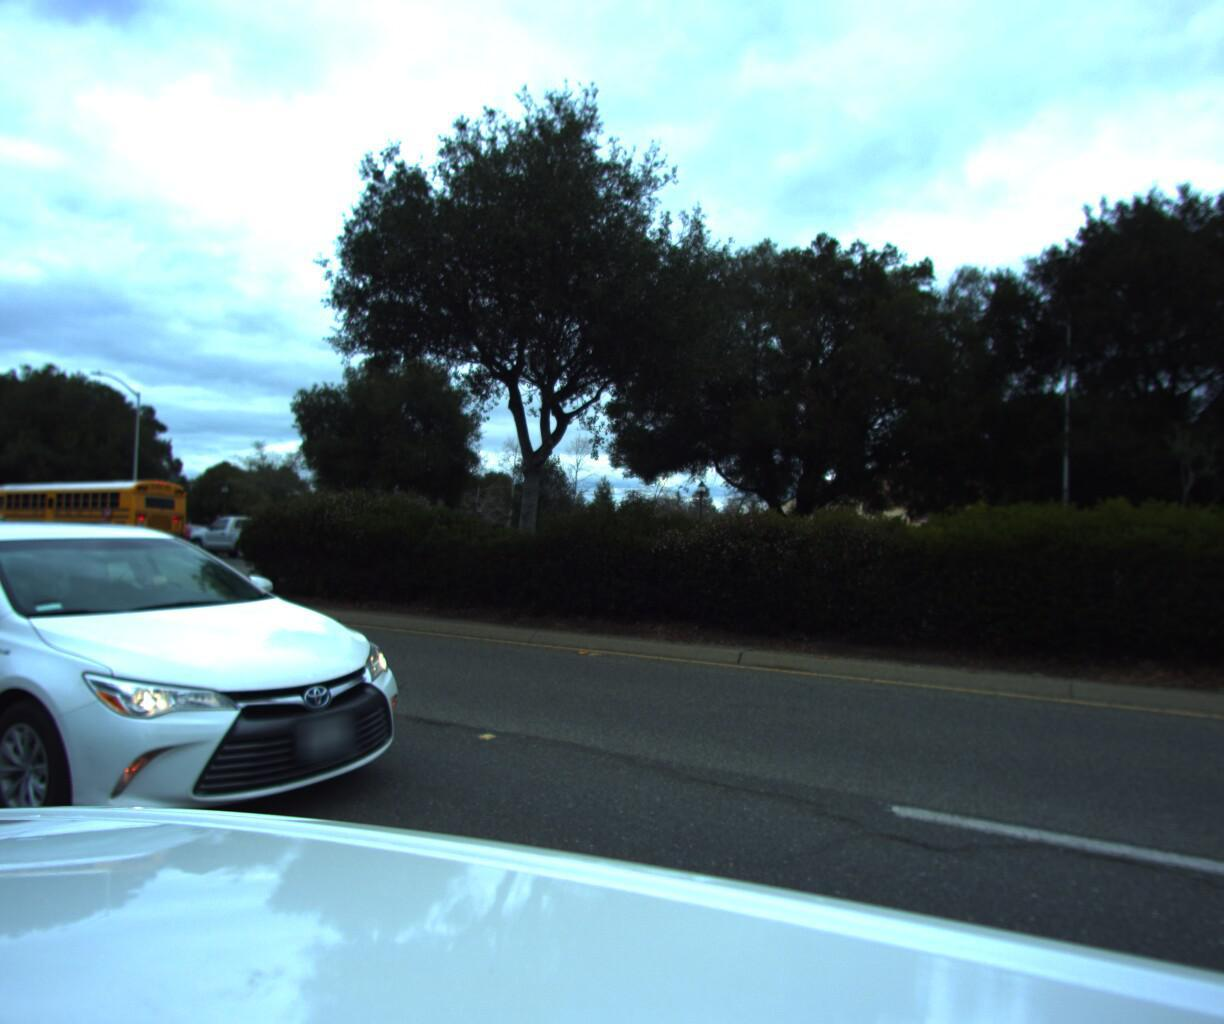bus: (0, 472, 197, 551)
car: (0, 497, 463, 903), (178, 507, 303, 555), (135, 515, 230, 553), (0, 500, 32, 614), (0, 504, 27, 544)
